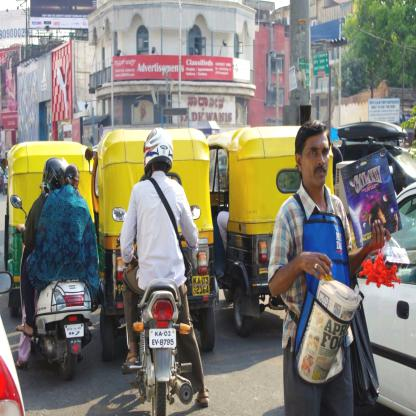car: (358, 180, 415, 415)
motorcycle: (112, 127, 210, 416), (10, 158, 100, 380)
